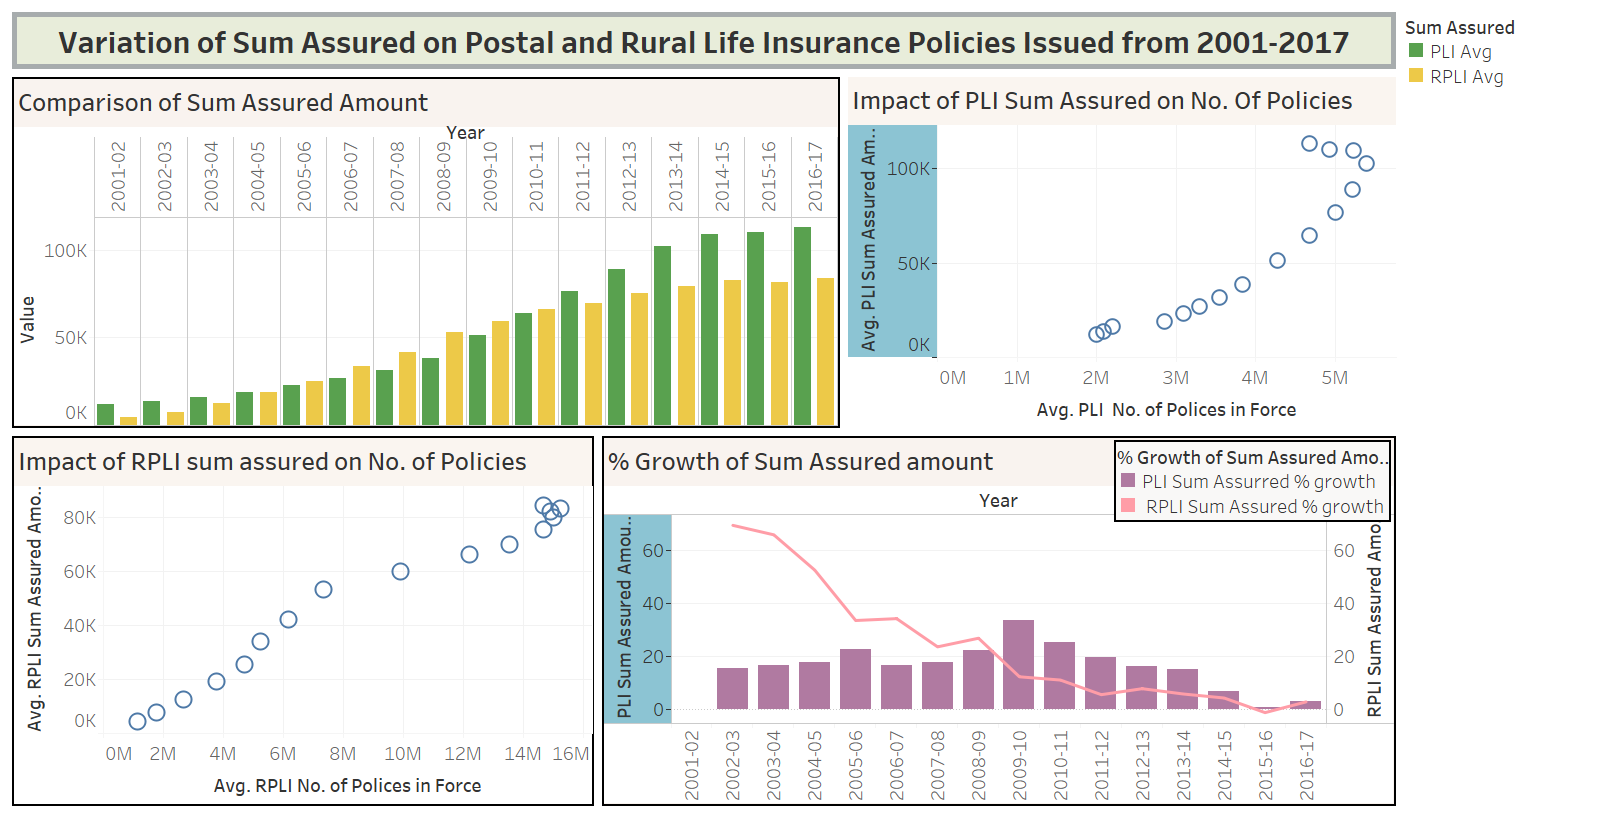

What the dashboard file says about the page in this screenshot:
{"tool":"tableau","page":{"name":"Dashboard 1","canvas":[1620,818],"ordinal":0},"visuals":[{"type":"worksheet","box":[0,0,1620,818]},{"type":"worksheet","param":"horz","box":[8,8,1604,802]},{"type":"worksheet","param":"horz","box":[8,8,1392,802]},{"type":"worksheet","param":"horz","box":[8,8,1392,802]},{"type":"worksheet","param":"vert","box":[8,8,1392,802]},{"type":"worksheet","box":[8,8,1392,65]},{"type":"worksheet","param":"vert","box":[1400,8,212,802]},{"type":"worksheet","title":"Comparison of Sum Assured Amount","mark":"Automatic","cols":["Year"],"param":"[federated.0u4ut7b1go6u9114bb1d71qctsme].[:Measure Names]","box":[1400,8,212,84]},{"type":"worksheet","param":"horz","box":[8,73,1392,737]},{"type":"worksheet","box":[8,73,1392,737]},{"type":"worksheet","title":"Comparison of Sum Assured Amount","mark":"Automatic","cols":["Year"],"box":[8,73,836,359]},{"type":"worksheet","title":"Impact of PLI Sum Assured on No. Of Policies","mark":"Automatic","rows":["Postal Life Insurance (PLI) - Sum Assured Amount"],"cols":["Postal Life Insurance (PLI) - No. of Polices in Force"],"box":[844,73,556,359]},{"type":"worksheet","title":"Impact of RPLI sum assured on No. of Policies","mark":"Automatic","rows":["Rural Postal Life Insurance (RPLI) - Sum Assured Amount"],"cols":["Rural Postal Life Insurance (RPLI) - No. of Polices in Force"],"box":[8,432,590,378]},{"type":"worksheet","title":"% Growth of Sum Assured amount","mark":"Line","rows":["Postal Life Insurance (PLI) - Sum Assured Amount - % growth","Rural Postal Life Insurance (RPLI) - Sum Assured Amount - % "],"cols":["Year"],"box":[598,432,802,378]},{"type":"worksheet","title":"% Growth of Sum Assured amount","mark":"Line","rows":["Postal Life Insurance (PLI) - Sum Assured Amount - % growth","Rural Postal Life Insurance (RPLI) - Sum Assured Amount - % "],"cols":["Year"],"param":"[federated.0u4ut7b1go6u9114bb1d71qctsme].[:Measure Names]","box":[1114,440,277,82]}]}

Visuals, with their boxes in screenshot pixels (x1, y1, x2, y2), scaled from the page's 1620x818 canvas onto the 1620x818 screenshot:
worksheet: [0, 0, 1619, 817]
worksheet: [8, 8, 1612, 810]
worksheet: [8, 8, 1400, 810]
worksheet: [8, 8, 1400, 810]
worksheet: [8, 8, 1400, 810]
worksheet: [8, 8, 1400, 73]
worksheet: [1400, 8, 1612, 810]
"Comparison of Sum Assured Amount" worksheet: [1400, 8, 1612, 92]
worksheet: [8, 73, 1400, 810]
worksheet: [8, 73, 1400, 810]
"Comparison of Sum Assured Amount" worksheet: [8, 73, 844, 432]
"Impact of PLI Sum Assured on No. Of Policies" worksheet: [844, 73, 1400, 432]
"Impact of RPLI sum assured on No. of Policies" worksheet: [8, 432, 598, 810]
"% Growth of Sum Assured amount" worksheet (Line marks): [598, 432, 1400, 810]
"% Growth of Sum Assured amount" worksheet (Line marks): [1114, 440, 1391, 522]
